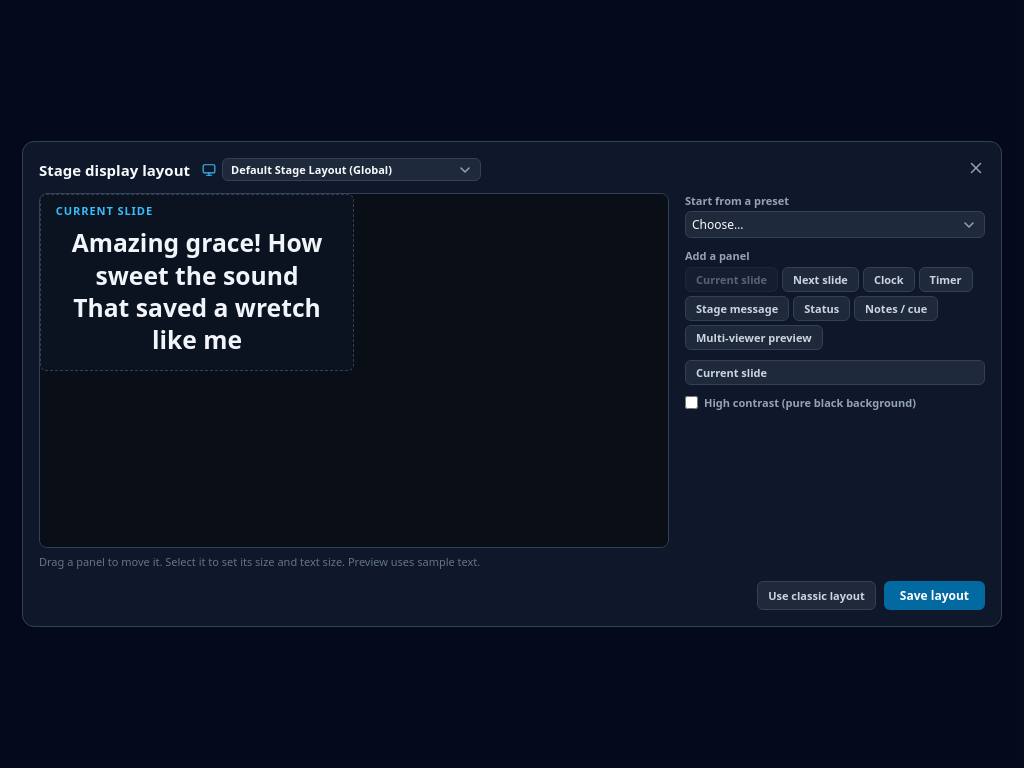
Test case: StageLayoutEditor › saving with no panels returns to the classic layout and says so
Check: the number of buttons with test id "panel-row" is 1, box [685, 360, 985, 385]
Click the button with test id "stage-use-classic" at [817, 595], box [757, 581, 876, 610]
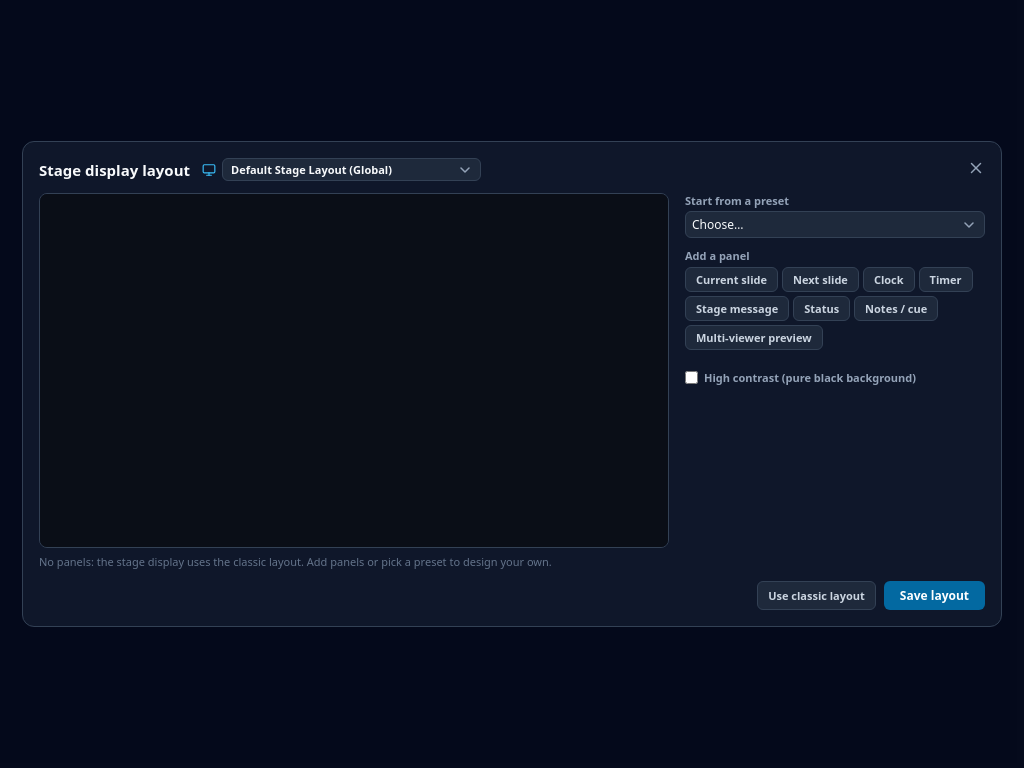
Click the button with test id "stage-layout-save" at [934, 595], box [884, 581, 985, 610]
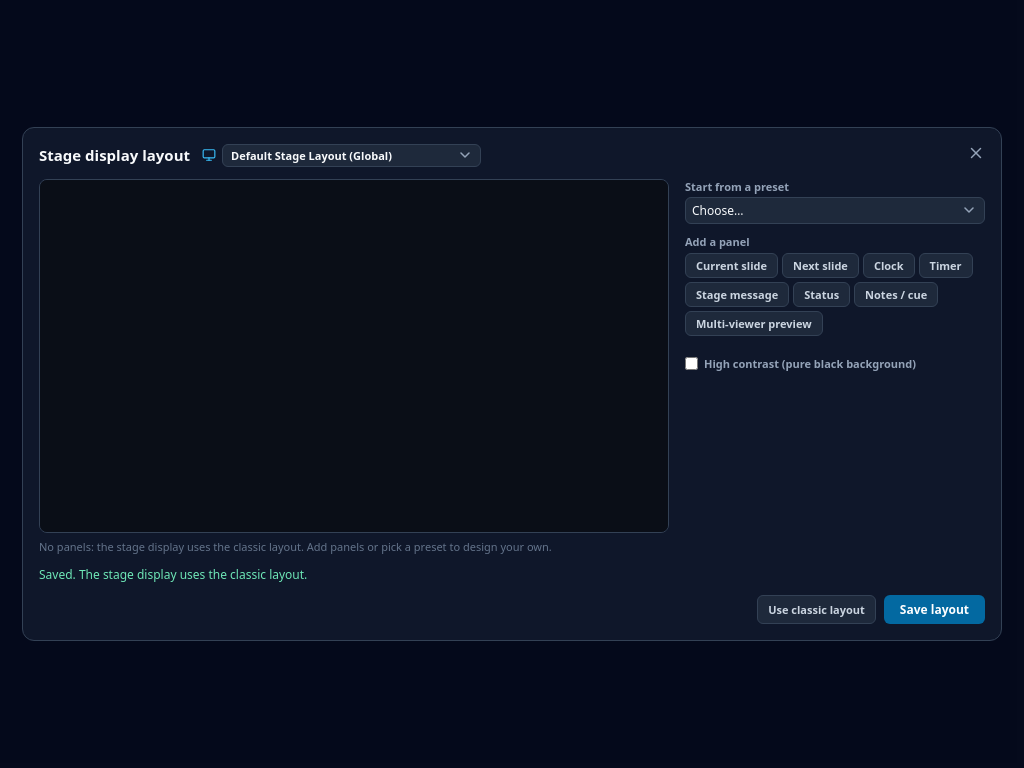
Check: the text with test id "stage-layout-message" shows "classic layout", box [39, 566, 307, 583]
